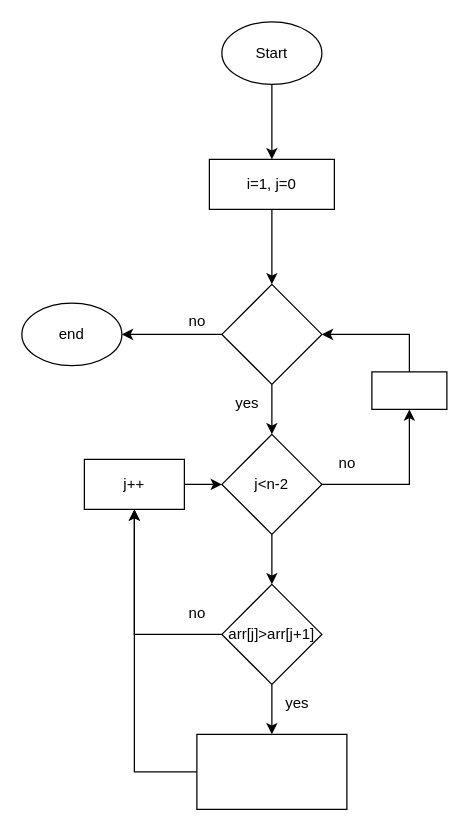
This 469x831 diagram has some shape labels left out. Here are the shapes that lost their labels. From the top down, the centre of each, then its label:
point (271, 333): i<n
point (409, 390): i++
point (271, 771): swap arr[j],arr[j+1]
